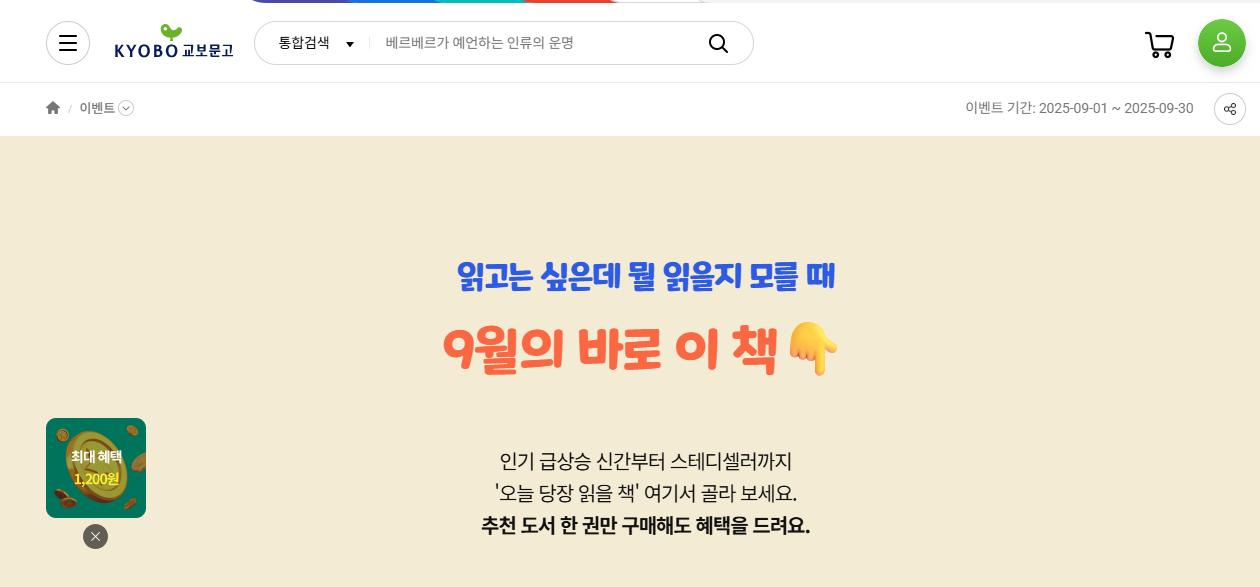button: (1193, 26, 1250, 71), (1125, 24, 1183, 68), (1218, 96, 1246, 120)
input_field: (252, 21, 756, 64)
popup: (44, 417, 152, 554)
